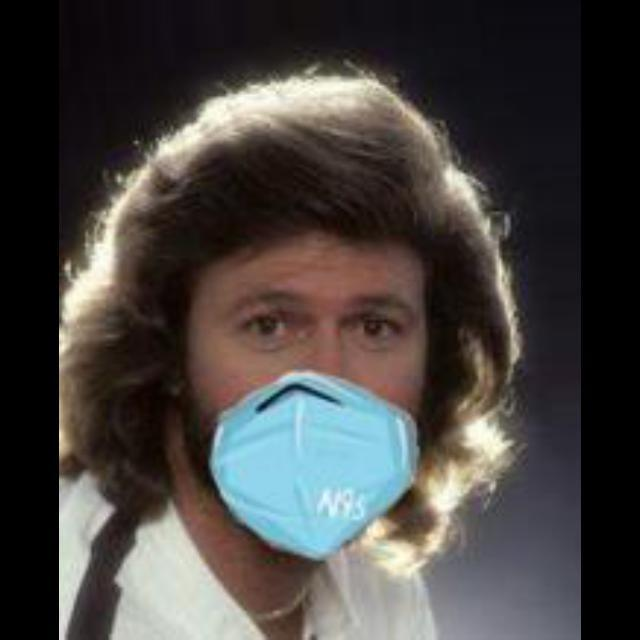suspicion: (122, 150, 530, 568)
